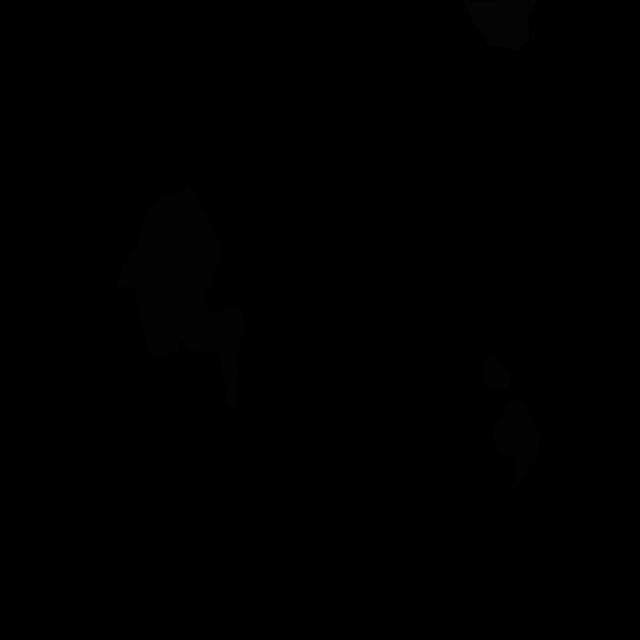cardboard: (117, 183, 223, 358), (180, 297, 245, 407), (492, 398, 540, 498), (482, 354, 510, 390)
soft_plastic: (464, 0, 537, 50)
